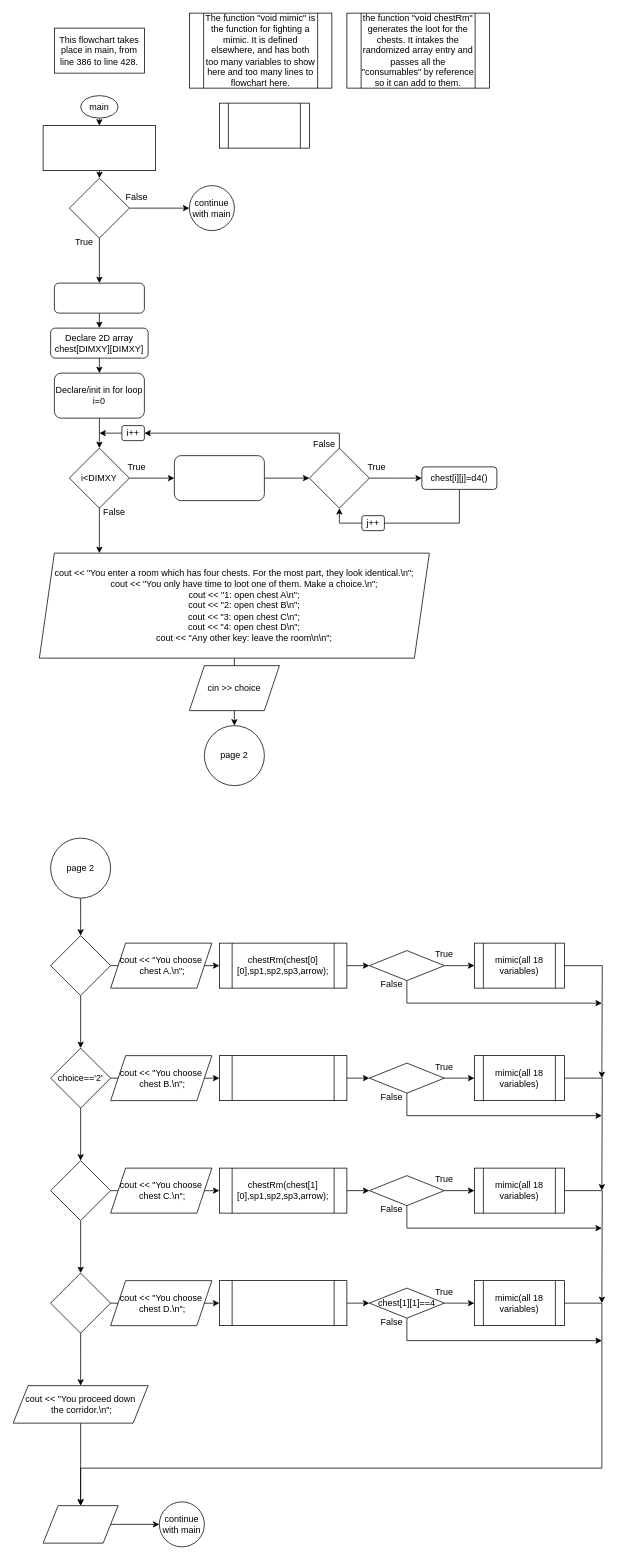
This 622x1560 diagram has some shape labels left out. The box of each missing label's shape, as (x1, y1, x2, y2) in pixels:
chest[0][0]==4: (369, 950, 444, 981)
chest[0][1]==4: (369, 1062, 444, 1093)
chest[1][0]==4: (369, 1175, 444, 1206)
chestRm(chest[0][1],sp1,sp2,sp3,arrow);: (219, 1055, 347, 1101)
chestRm(chest[1][1],sp1,sp2,sp3,arrow);: (219, 1280, 347, 1326)
choice=='1': (50, 935, 111, 996)
choice=='3': (50, 1160, 111, 1221)
choice=='4': (50, 1272, 111, 1333)
Declare const short DIMXY=2: (54, 282, 144, 313)
Declare/init in for loop j=0: (174, 455, 264, 501)
End of line: (42, 1505, 118, 1543)
j<DIMXY: (309, 447, 369, 508)
pHlth>0: (69, 177, 129, 238)
Previously declared: char choice fast forward to line 386: (42, 125, 156, 171)
unsigned short d4() is a random roll from 1 to 4.: (219, 102, 309, 148)
